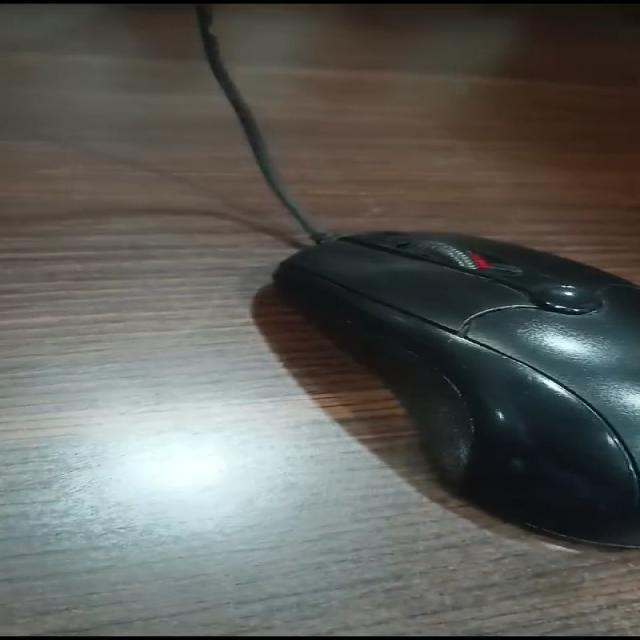mouse: (224, 184, 640, 579)
